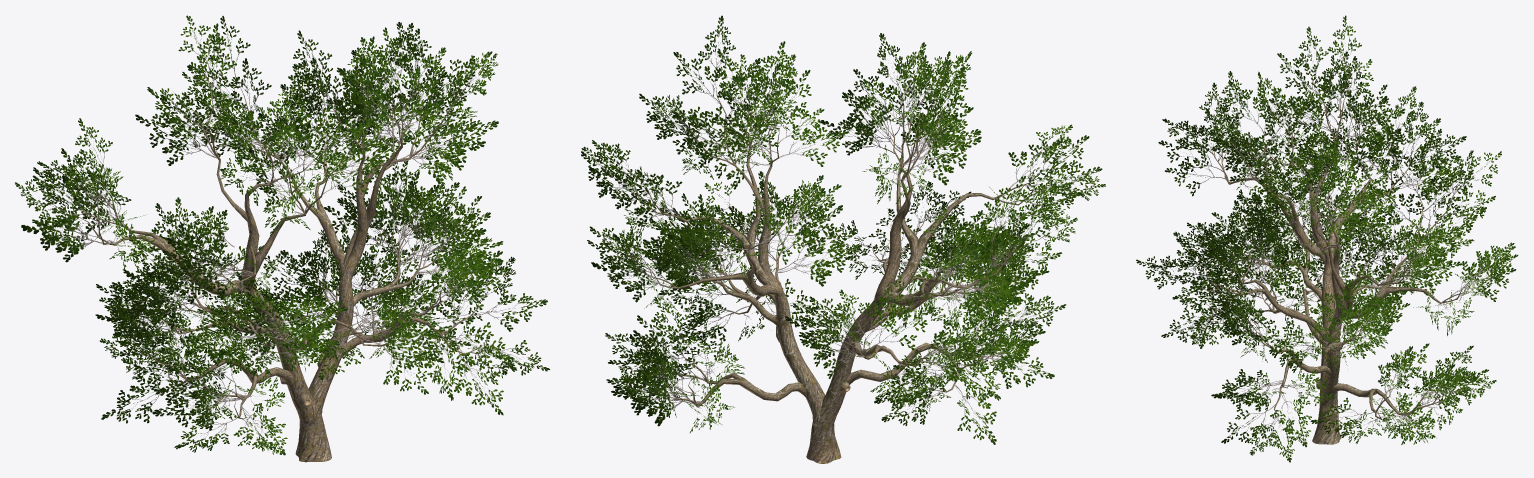
Rendered from OakTree.obj.
3 renders of one model, left to right at view 1: azimuth 30°, elevation 25°; view 2: azimuth 150°, elevation 25°; view 3: azimuth 270°, elevation 25°, orthographic. The views are drawn at different scales.
Visible parts, largest first — view 1: oak leaf, mossybark02; view 2: oak leaf, mossybark02; view 3: oak leaf, mossybark02.
Part boxes in pixels (left/top/right/bottom): oak leaf: left=15, top=15, right=549, bottom=455; mossybark02: left=68, top=61, right=484, bottom=462; oak leaf: left=581, top=15, right=1105, bottom=444; mossybark02: left=624, top=81, right=1048, bottom=463; oak leaf: left=1136, top=15, right=1518, bottom=462; mossybark02: left=1189, top=74, right=1469, bottom=444.
Bounding box in the file's own units: 1066 × 958 × 883.
3 materials, 3 textured.
